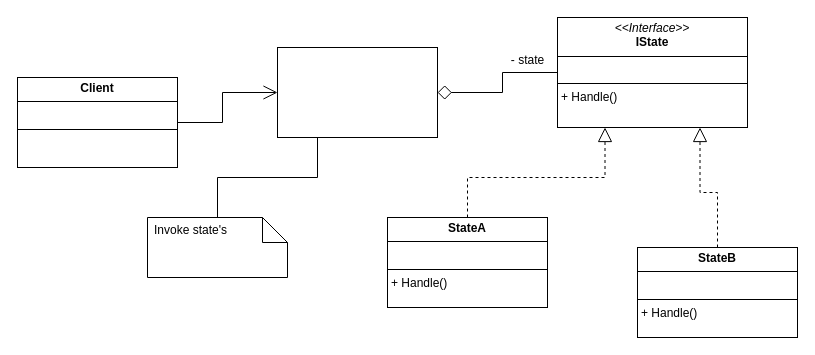
Image size: 815x355. Some labels were removed from this diagram. The shapes that lost their labels are listed below. From the top down, each one's box as (x1, y1, x2, y2) in pixels, then its label:
(276, 46, 438, 138): Context + Request()
(146, 216, 288, 278): Handle()
